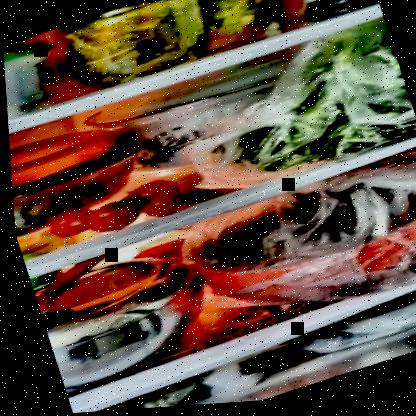lettuce: (237, 24, 415, 183)
tomato: (40, 178, 185, 252)
